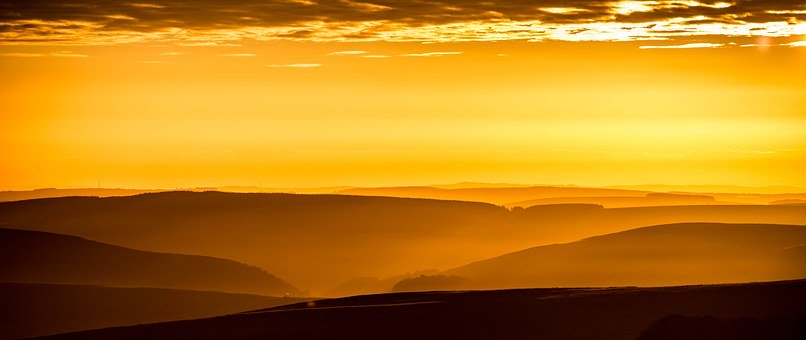mountain: (10, 191, 806, 340)
sky: (4, 3, 799, 192)
